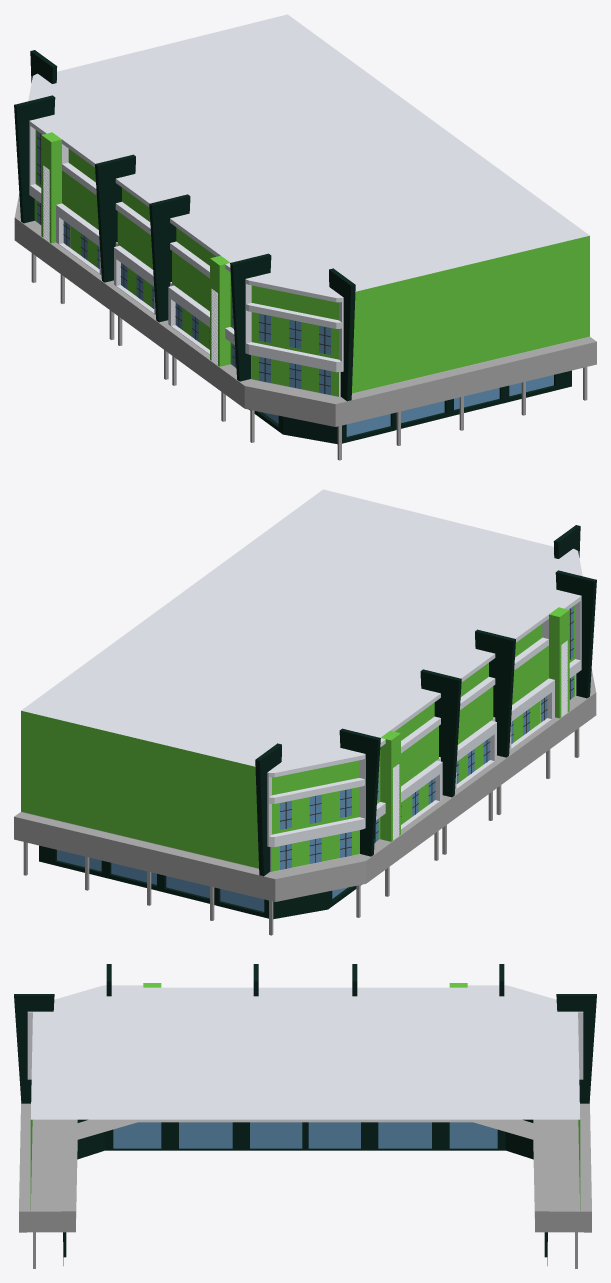
The model's file is Building_AVM.fbx.
The picture shows the model from 3 angles, top to bottom: view 1: azimuth 30°, elevation 25°; view 2: azimuth 150°, elevation 25°; view 3: azimuth 270°, elevation 25°; orthographic projection. The views are drawn at different scales.
Visible parts, largest first — view 1: Building_AVM; view 2: Building_AVM; view 3: Building_AVM.
Boxes of the visible parts, x1,y1,x2,y2 form: Building_AVM: [14, 14, 596, 460]; Building_AVM: [14, 489, 596, 935]; Building_AVM: [14, 964, 596, 1268].
Size of the model in its own units: 340 by 187 by 598.
